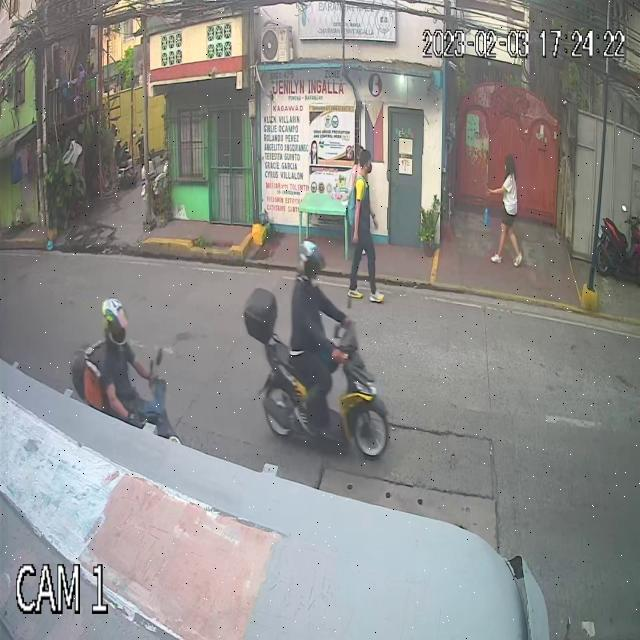human: (484, 154, 522, 266)
trash: (484, 198, 492, 234)
